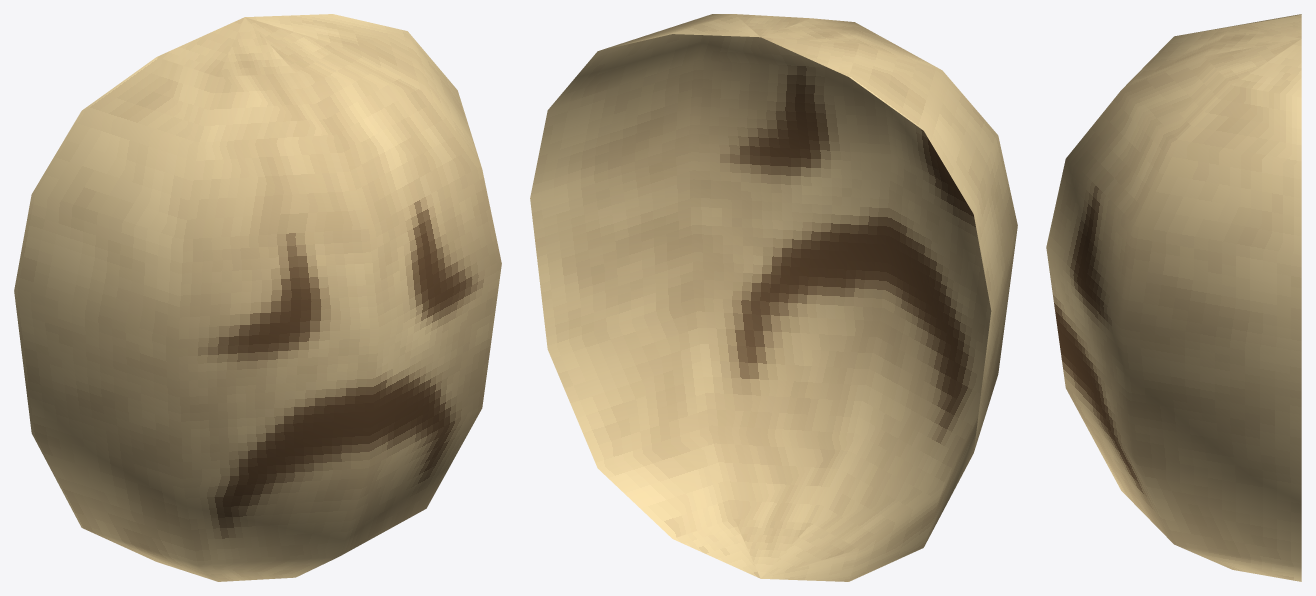
Rendered from Mask.glb.
3 renders of one model, left to right at view 1: azimuth 30°, elevation 25°; view 2: azimuth 150°, elevation 25°; view 3: azimuth 270°, elevation 25°, orthographic. The views are drawn at different scales.
Parts seen in each view (by area): view 1: Sphere; view 2: Sphere; view 3: Sphere.
Boxes of the visible parts, left/top/right/bottom form: Sphere: left=14, top=14, right=501, bottom=581; Sphere: left=530, top=14, right=1017, bottom=581; Sphere: left=1046, top=14, right=1301, bottom=581.
Bounding box in the file's own units: 2 × 2.24 × 1.
1 material, 1 textured.
